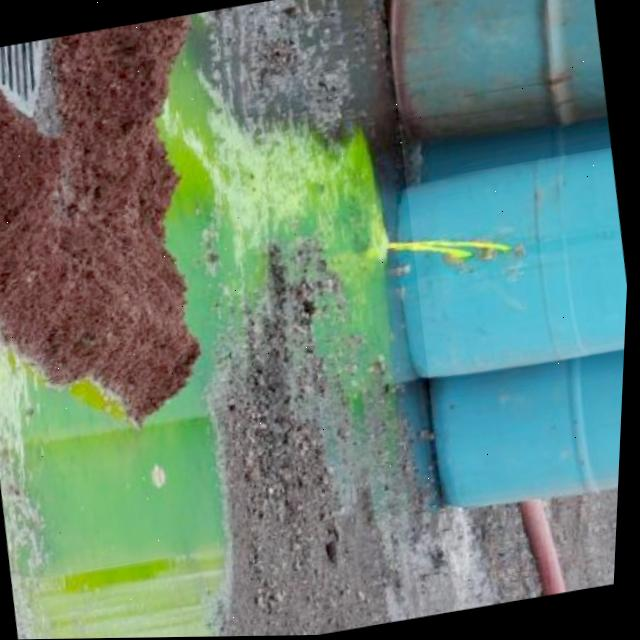spillage: (0, 0, 435, 639)
